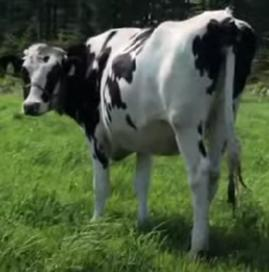cow: (20, 11, 252, 256)
